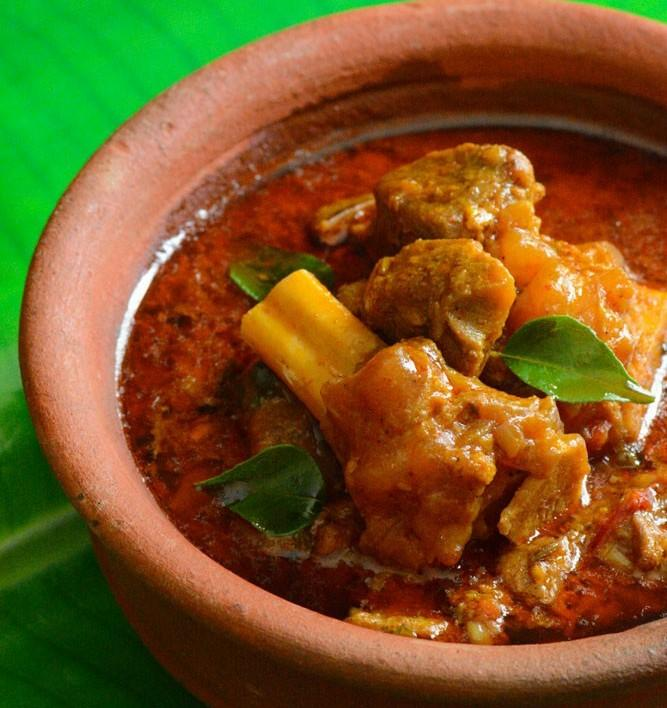MuttonCurry: (118, 118, 667, 642)
